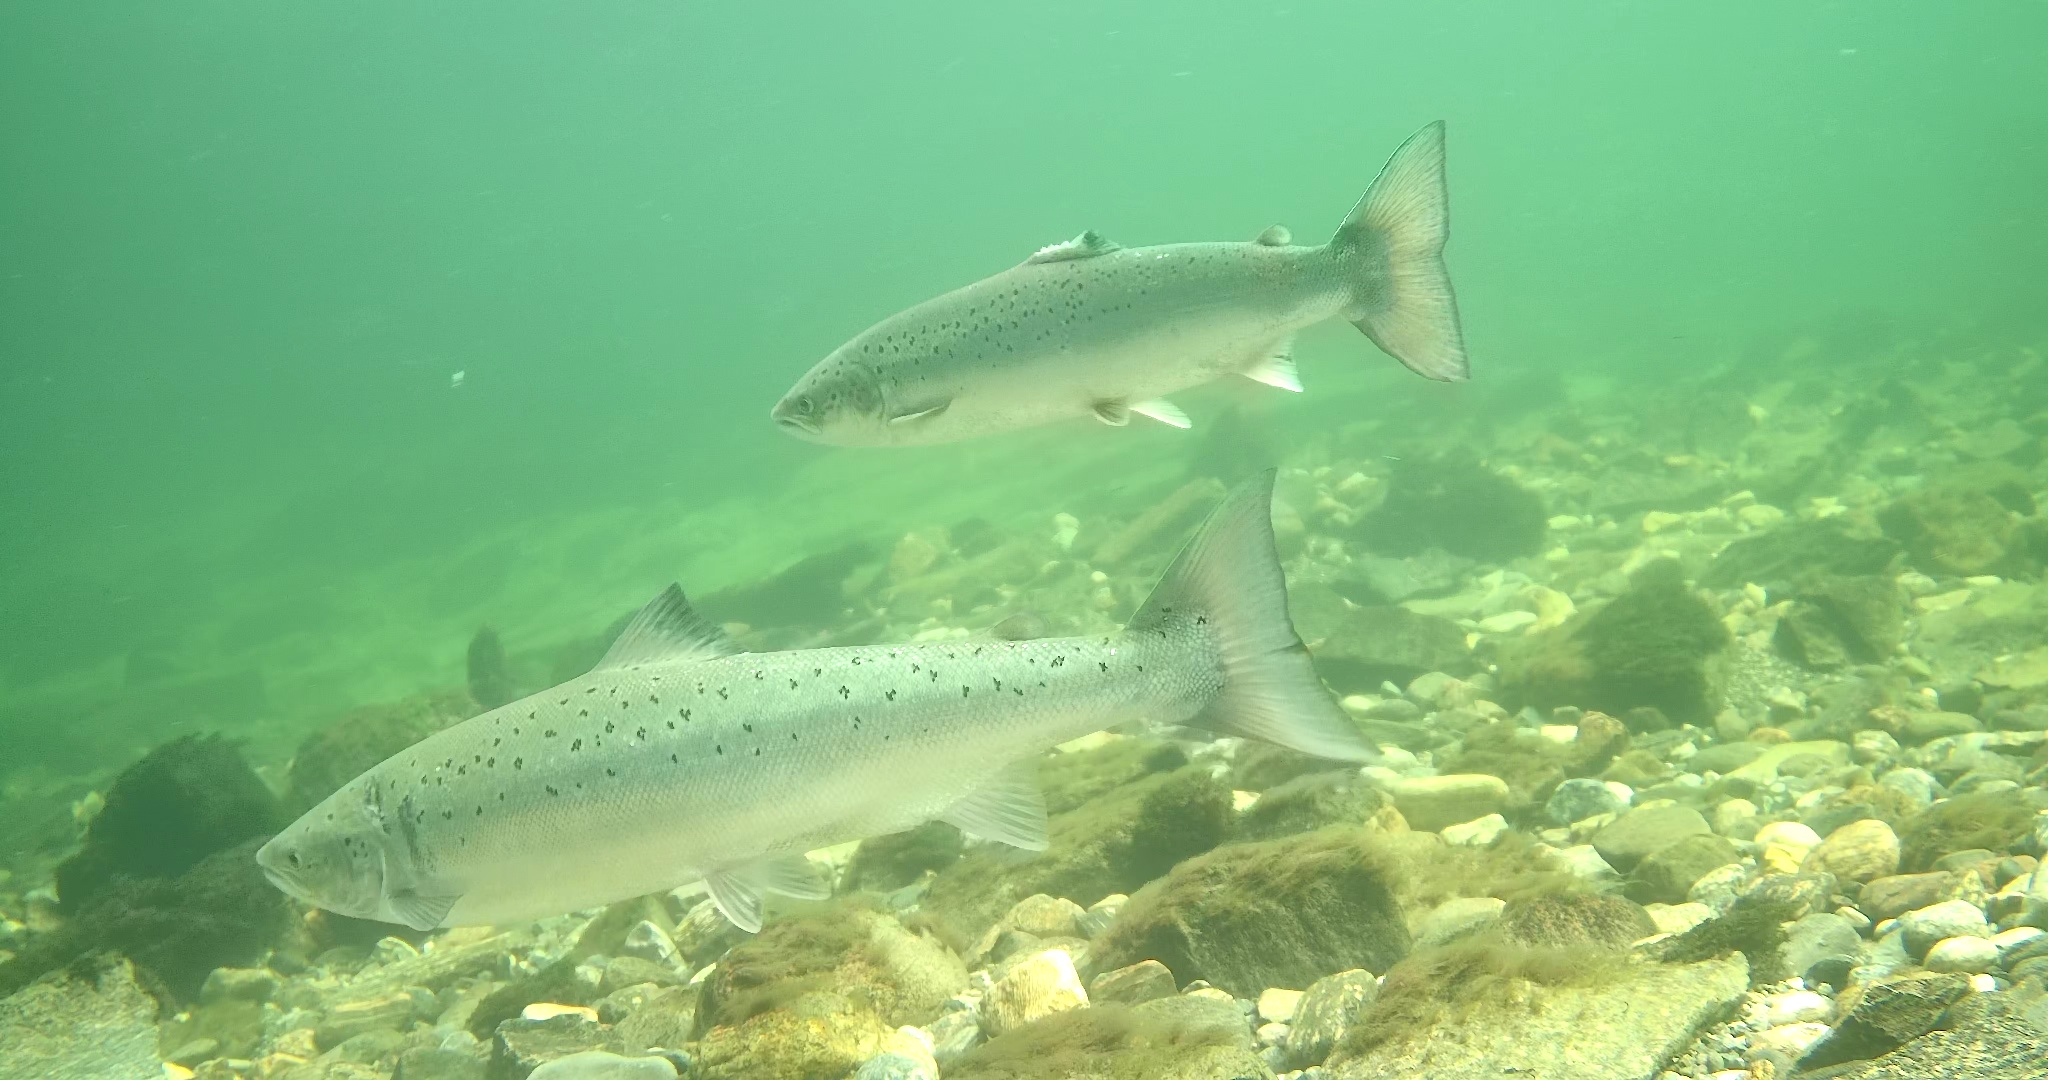salmon: (252, 463, 1396, 935), (769, 121, 1470, 444)
